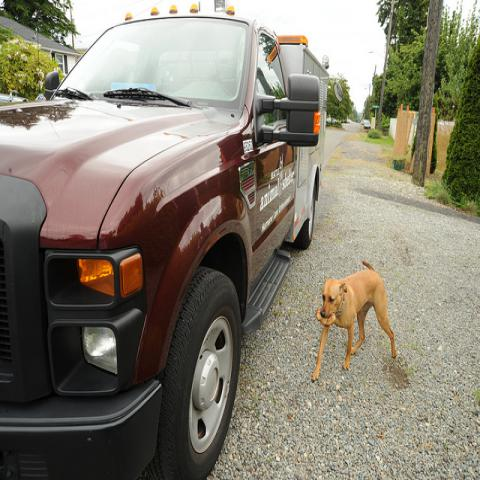car: (364, 120, 371, 129)
truck: (0, 0, 343, 479)
